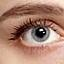eye: (31, 27, 50, 42)
